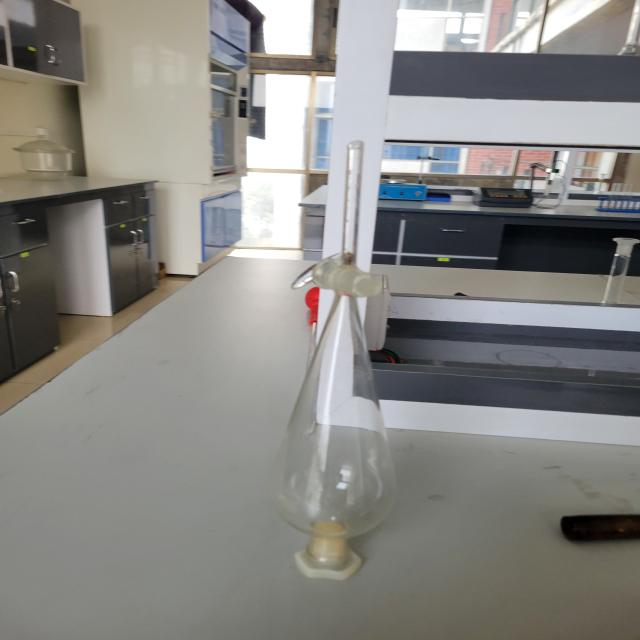Separating_Funnel: (276, 121, 428, 597)
